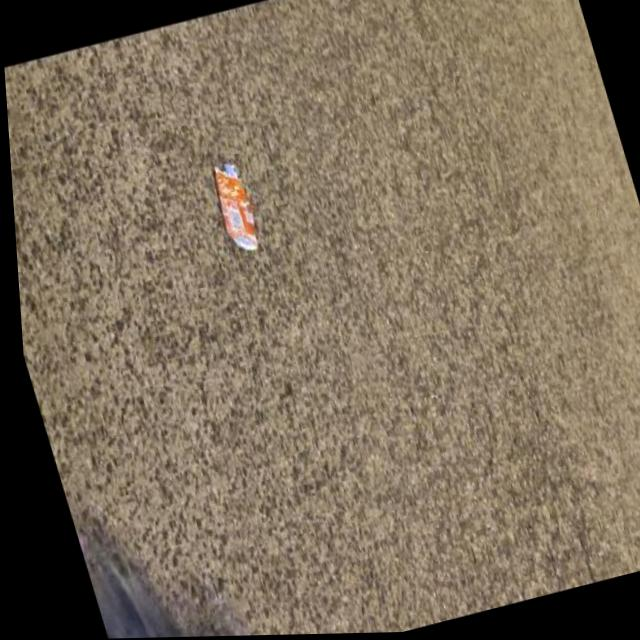metal: (205, 157, 264, 255)
